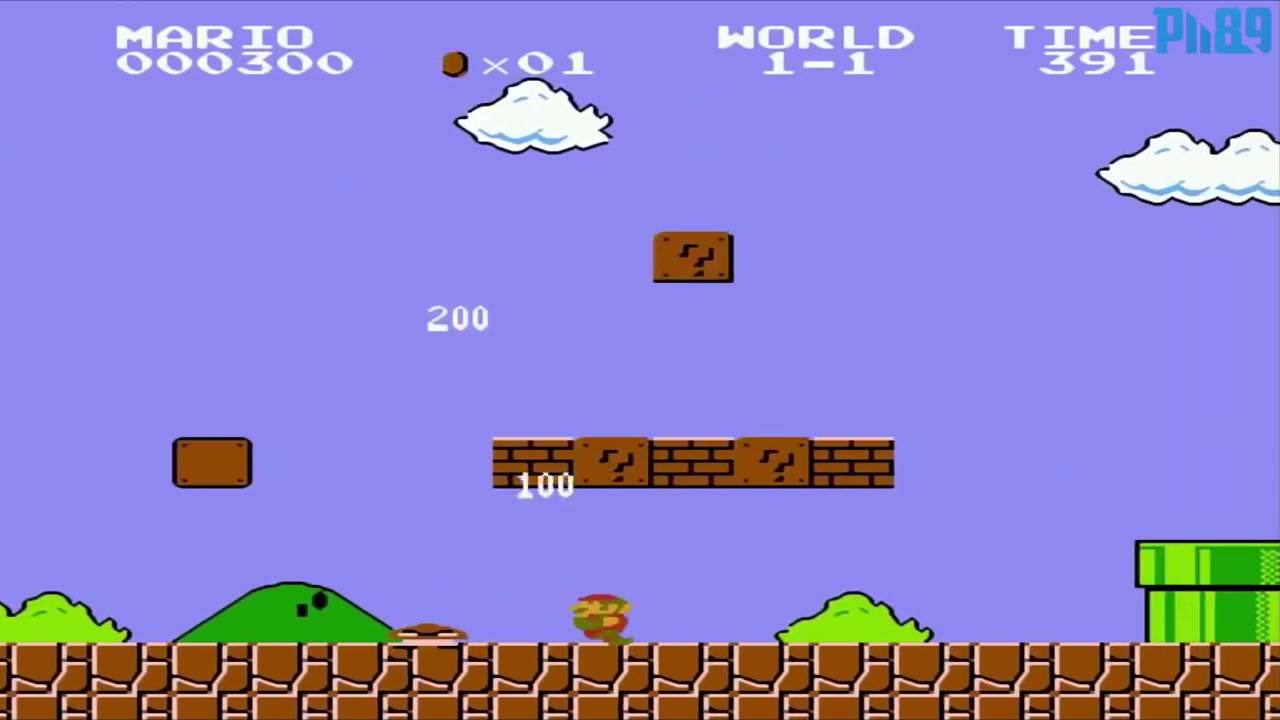mario: (556, 582, 643, 649)
